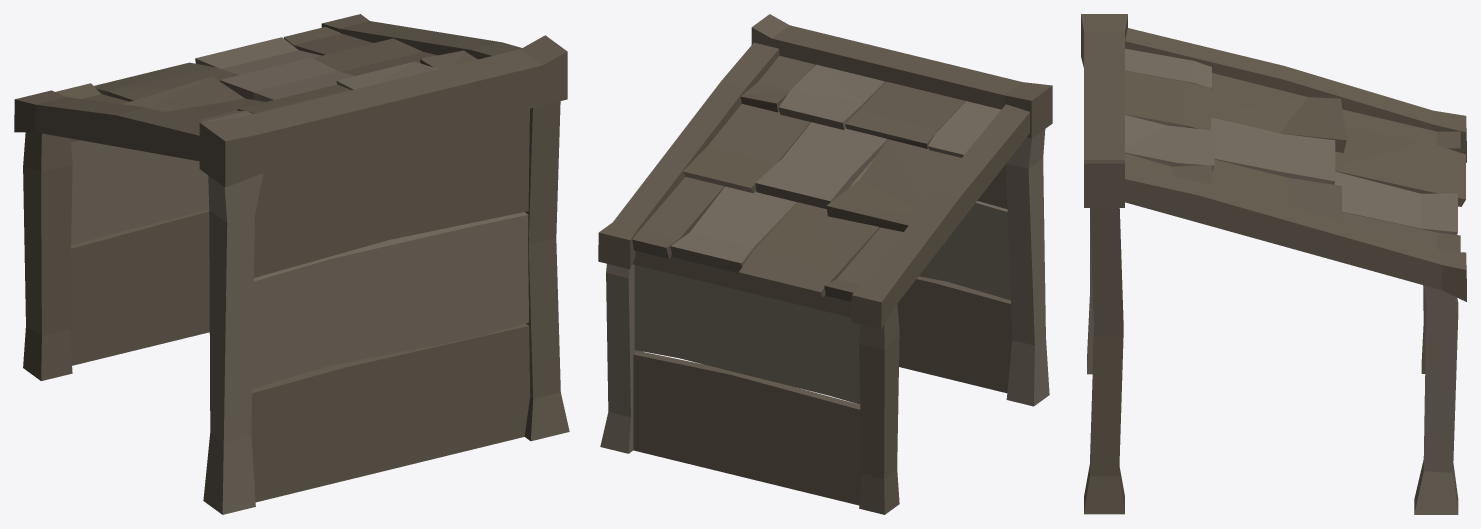
File: canopy.glb
3 views of the same model, side by side, from view 1: azimuth 30°, elevation 25°; view 2: azimuth 150°, elevation 25°; view 3: azimuth 270°, elevation 25° (orthographic). The views are drawn at different scales.
Visible parts, largest first — view 1: Сanopy; view 2: Сanopy; view 3: Сanopy.
Boxes of the visible parts, bbox=[...] form: Сanopy: bbox=[14, 14, 569, 514]; Сanopy: bbox=[598, 14, 1052, 514]; Сanopy: bbox=[1081, 14, 1466, 514].
Bounding box in the file's own units: 2.27 × 2.37 × 2.37.
Materials: 1 (1 with a texture image).
